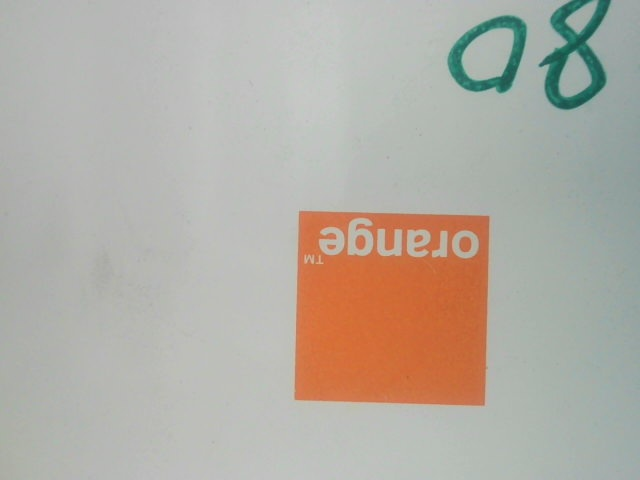AR_Orange: (276, 200, 499, 409)
